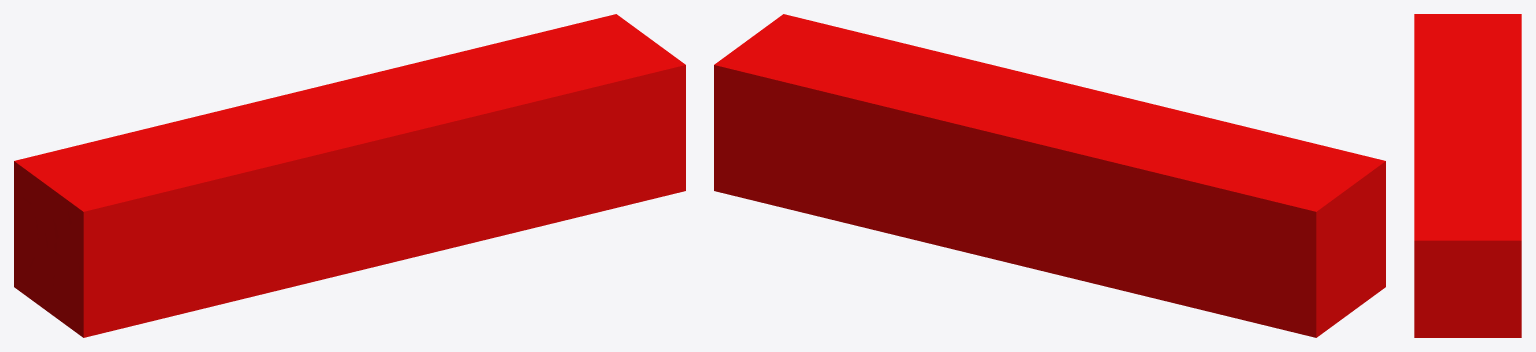
The model's file is anchor1_col.dae.
3 renders of one model, left to right at view 1: azimuth 30°, elevation 25°; view 2: azimuth 150°, elevation 25°; view 3: azimuth 270°, elevation 25°, orthographic. The views are drawn at different scales.
Visible parts, largest first — view 1: node0; view 2: node0; view 3: node0.
Part boxes in pixels (x1,y1,x2,y2): node0: [14, 14, 685, 337]; node0: [714, 14, 1385, 337]; node0: [1414, 14, 1521, 337].
Size of the model in its own units: 0.5 by 0.1 by 0.1.
